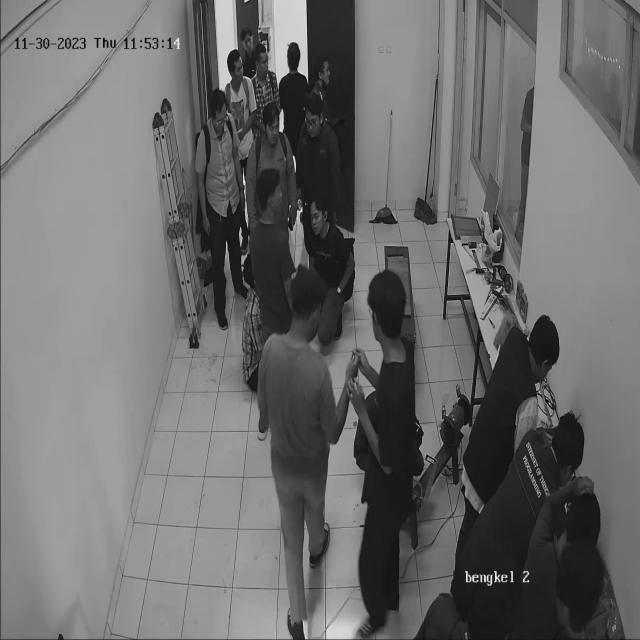person: (246, 252, 347, 640), (339, 241, 436, 640), (180, 72, 257, 335)
